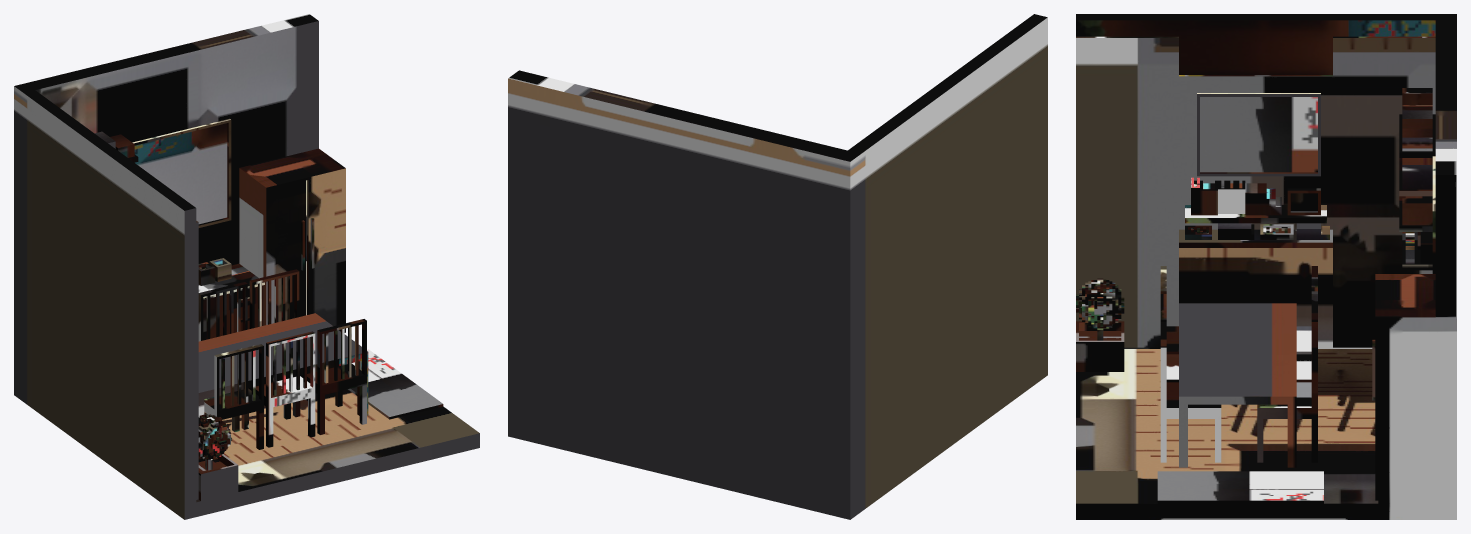
Rendered from Kitchen.dae.
3 views of the same model, side by side, from view 1: azimuth 30°, elevation 25°; view 2: azimuth 150°, elevation 25°; view 3: azimuth 270°, elevation 25° (orthographic). The views are drawn at different scales.
Visible parts, largest first — view 1: Kitchen_001; view 2: Kitchen_001; view 3: Kitchen_001.
Boxes of the visible parts, bbox=[...] form: Kitchen_001: bbox=[14, 14, 479, 519]; Kitchen_001: bbox=[508, 14, 1047, 519]; Kitchen_001: bbox=[1076, 14, 1456, 519].
Bounding box in the file's own units: 126 × 126 × 126.
